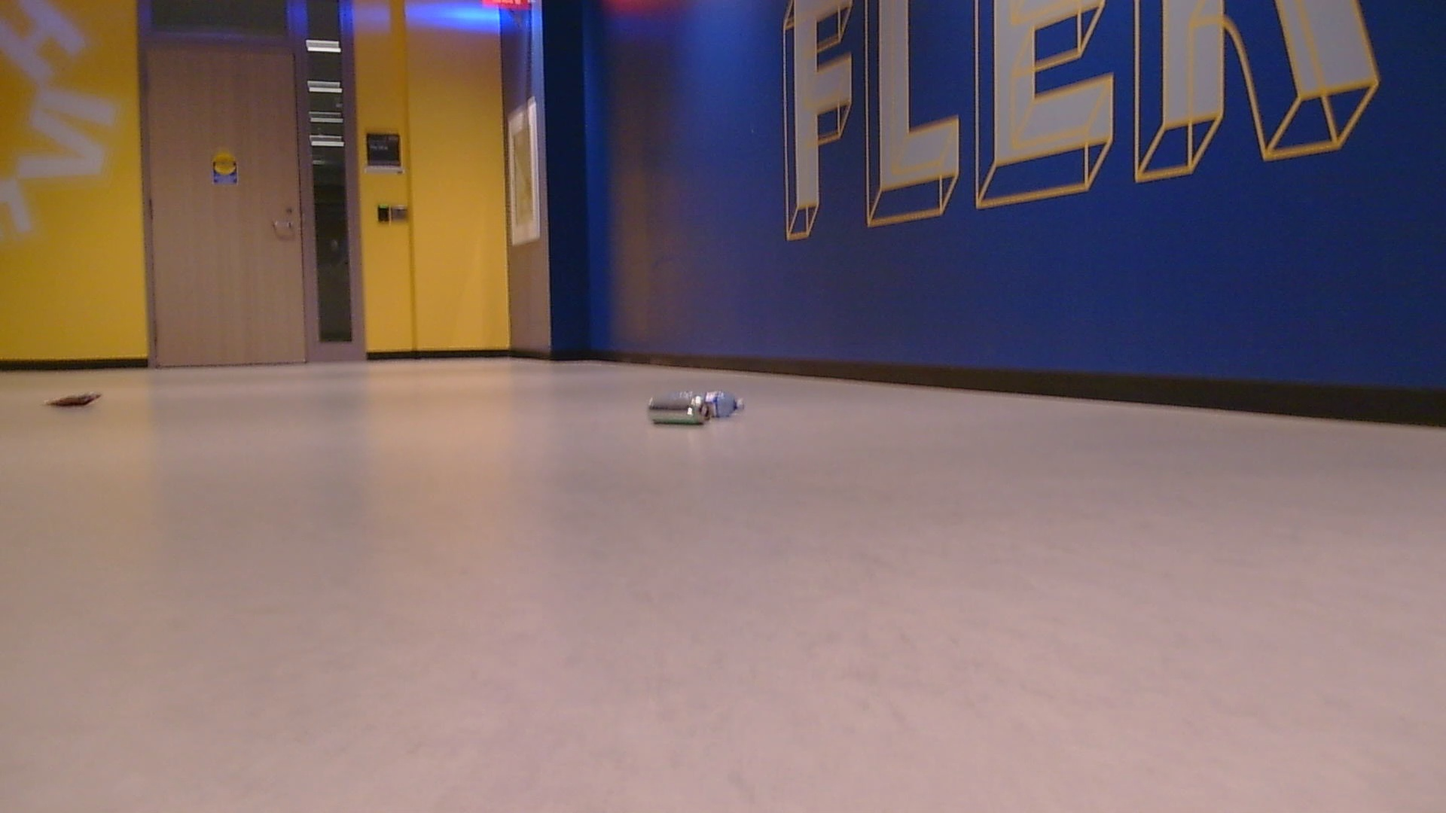can: (646, 387, 748, 427), (44, 379, 104, 414)
